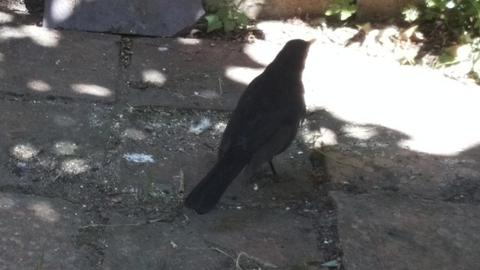blackbird: (182, 36, 318, 214)
